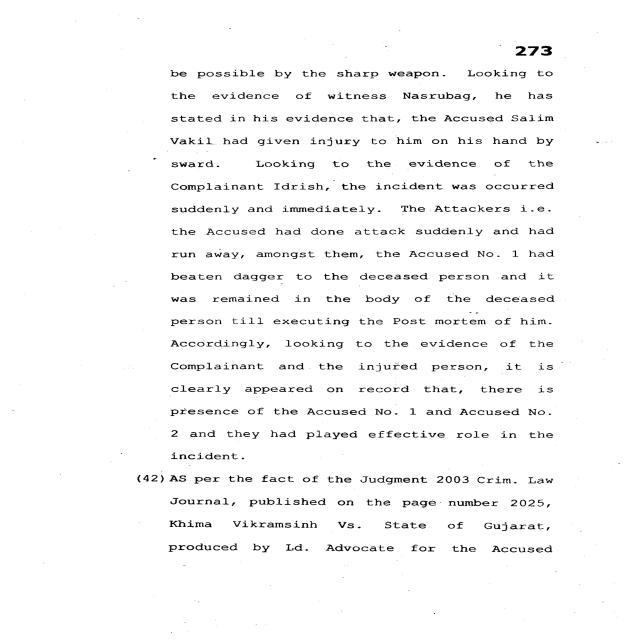page-number: (430, 0, 638, 60)
